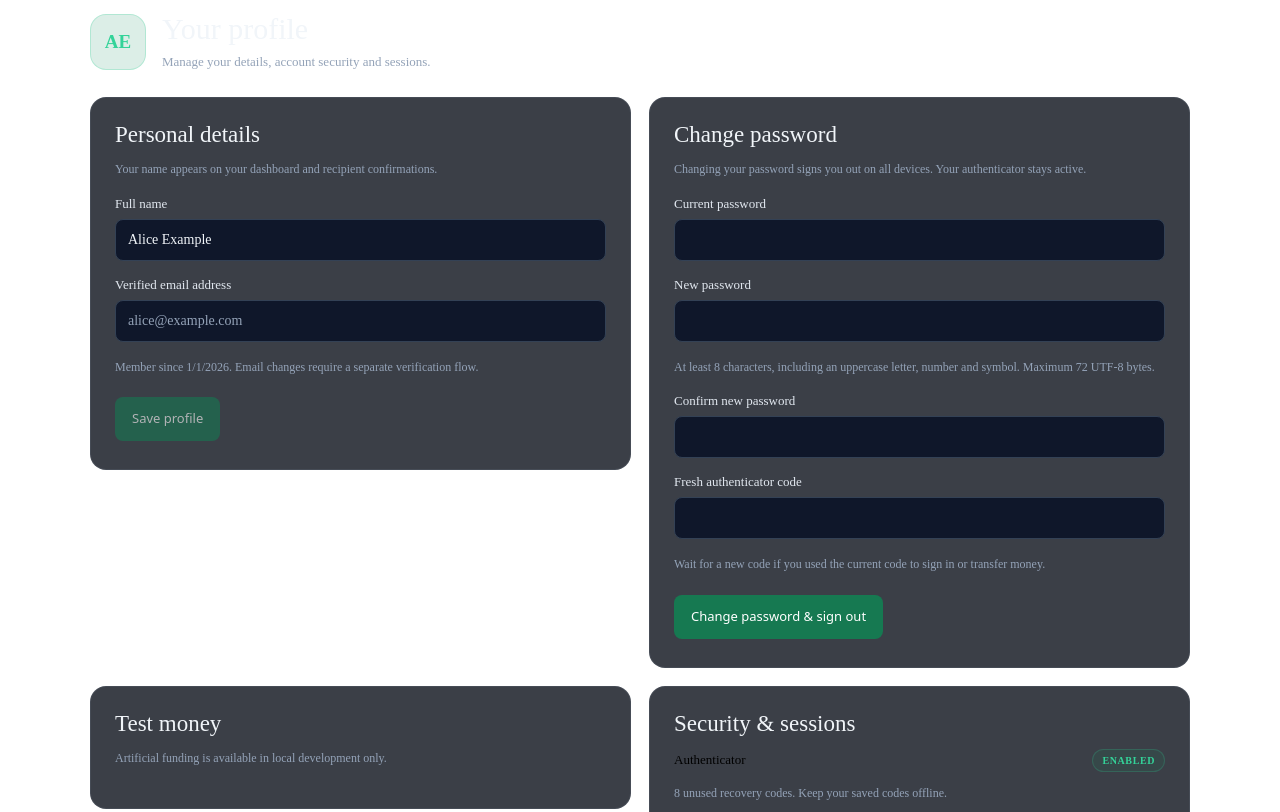
Test: password confirmation mismatch never sends a password request
In the password field labelled "Current password": (920, 240) [674, 219, 1165, 261], type "Current@123"
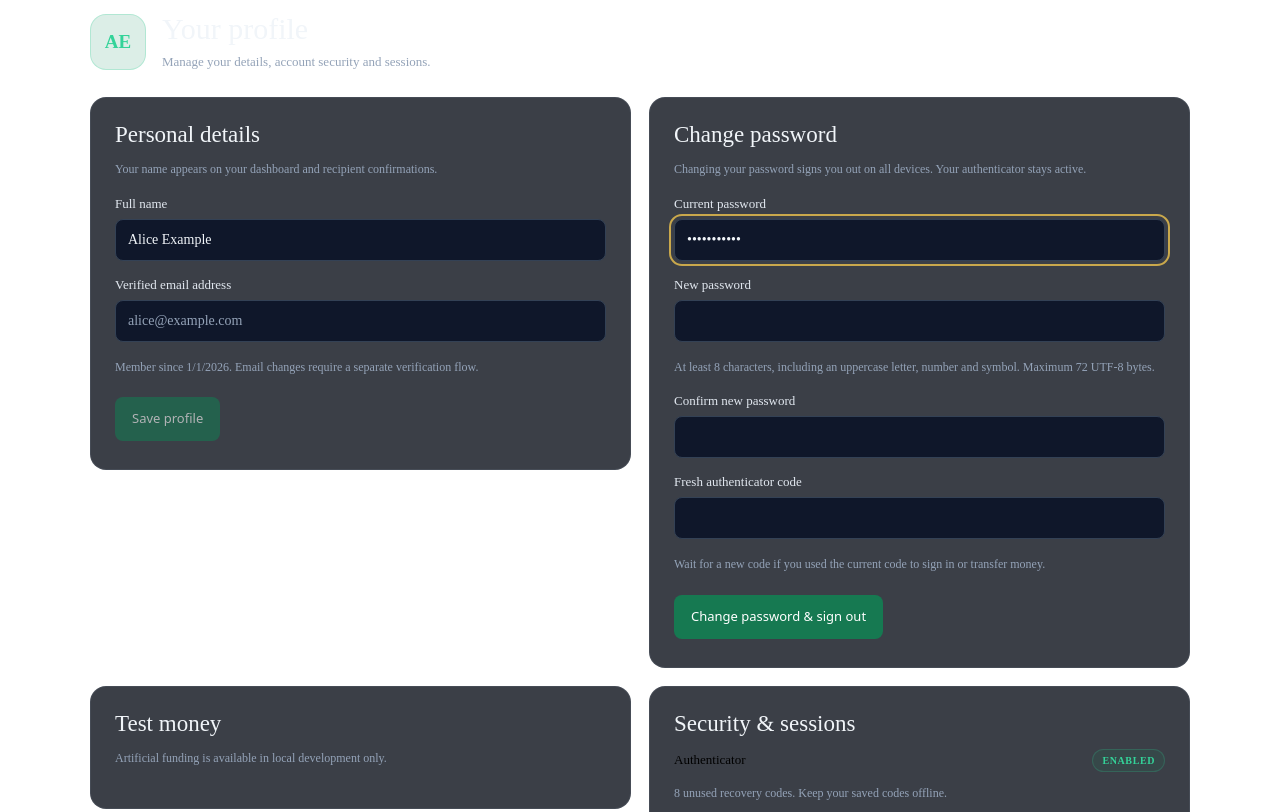
In the password field labelled "New password": (920, 321) [674, 300, 1165, 342], type "NewSecure@123"
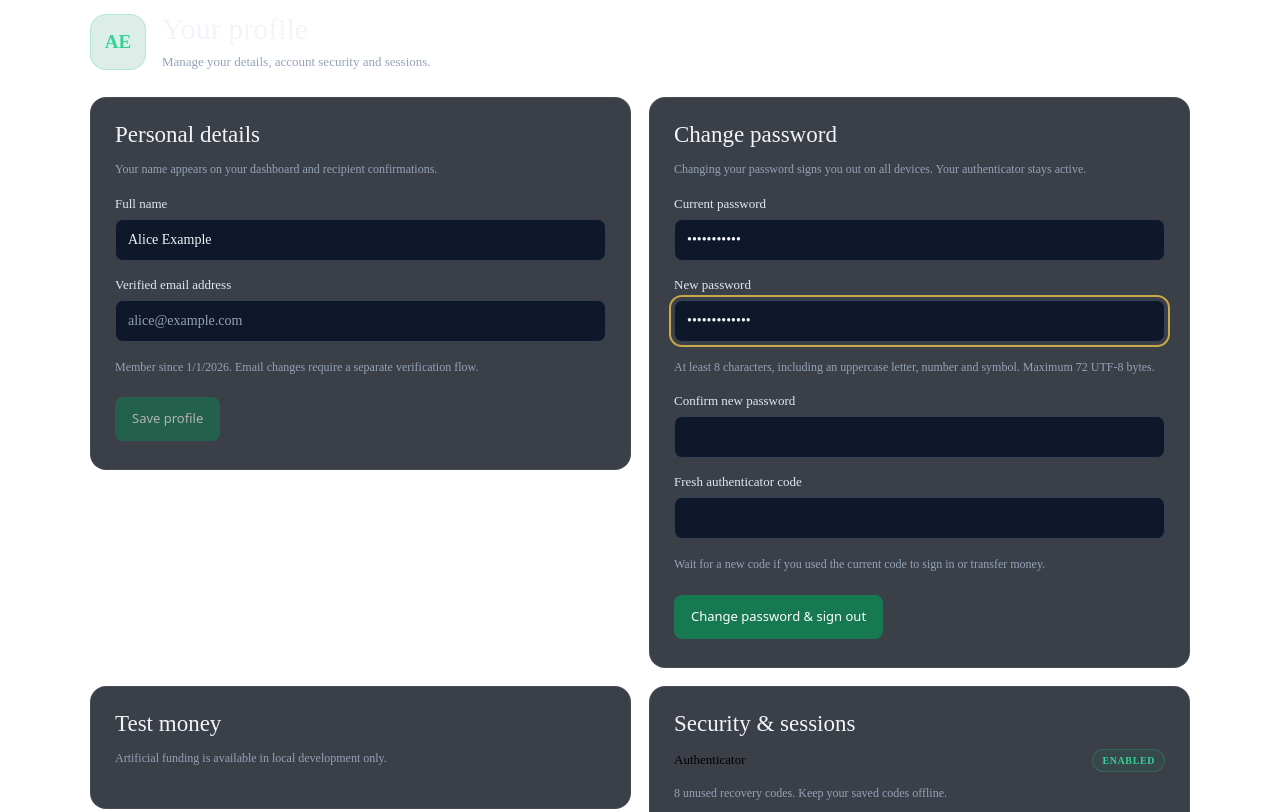
In the password field labelled "Confirm new password": (920, 437) [674, 416, 1165, 458], type "Different@123"
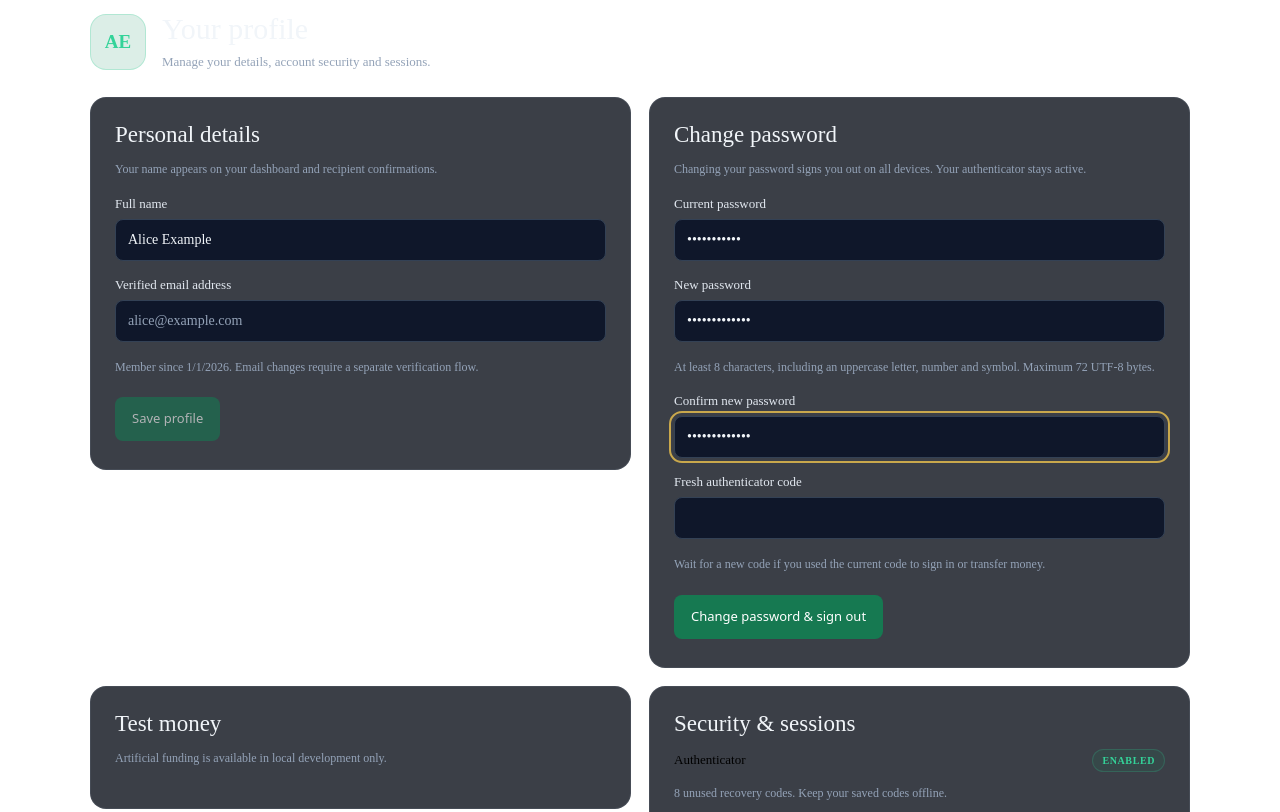
In the field labelled "Fresh authenticator code": (920, 518) [674, 497, 1165, 539], type "123456"
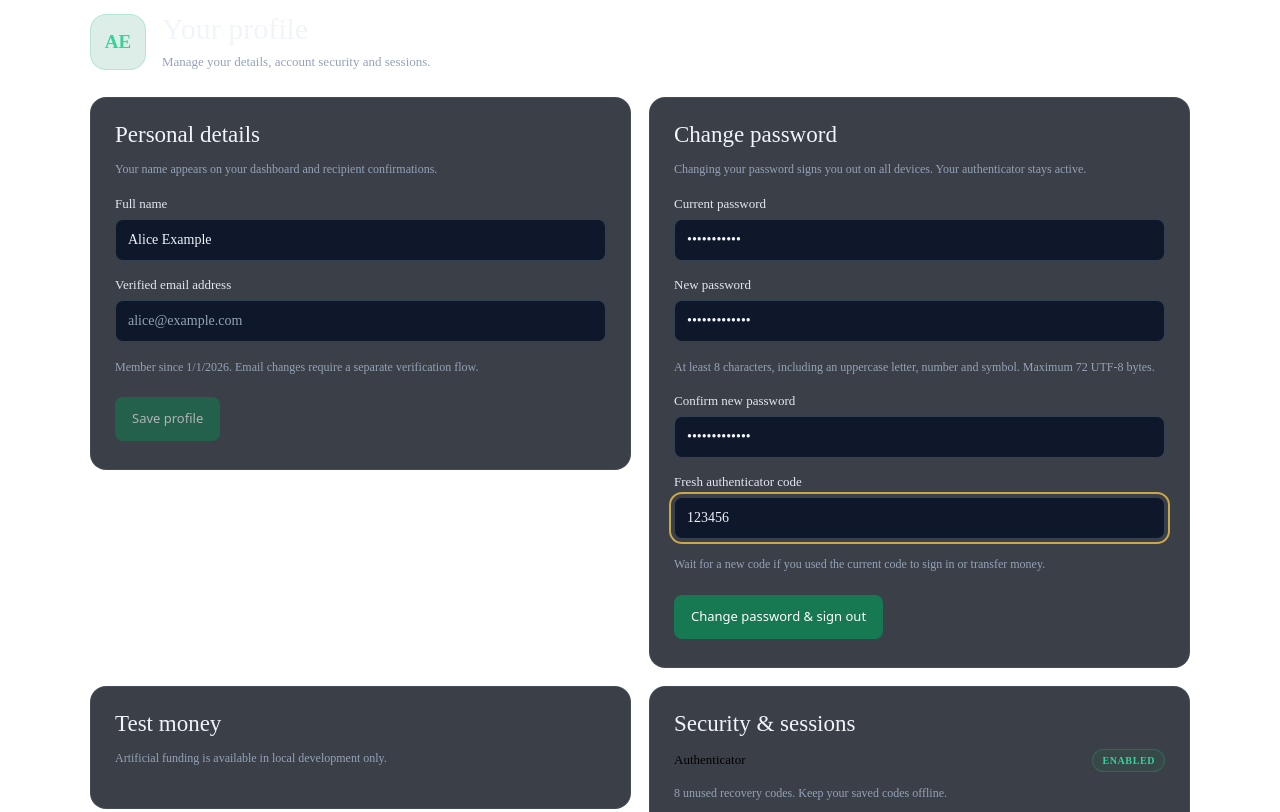
Click the button "Change password & sign out": (779, 617) [674, 595, 883, 639]
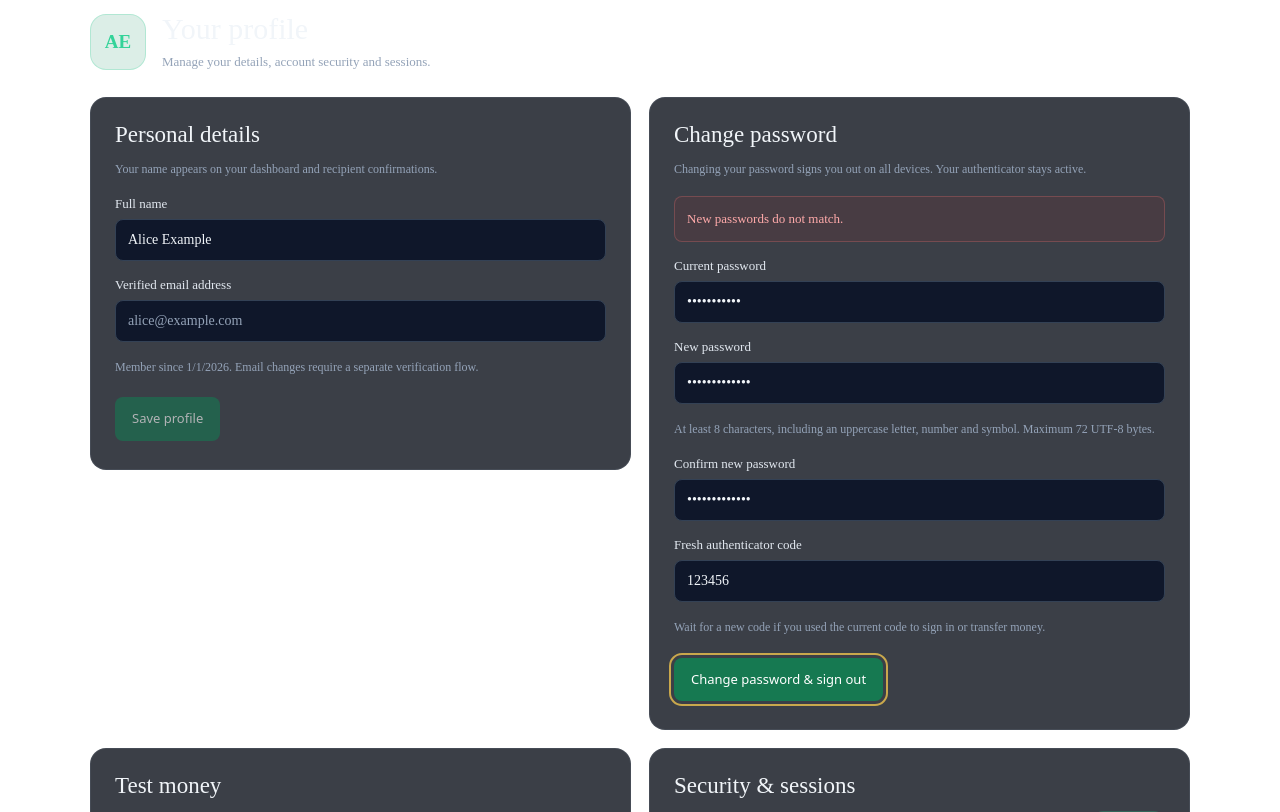
expect the text "New passwords do not match." is shown: met, box [674, 196, 1165, 242]
